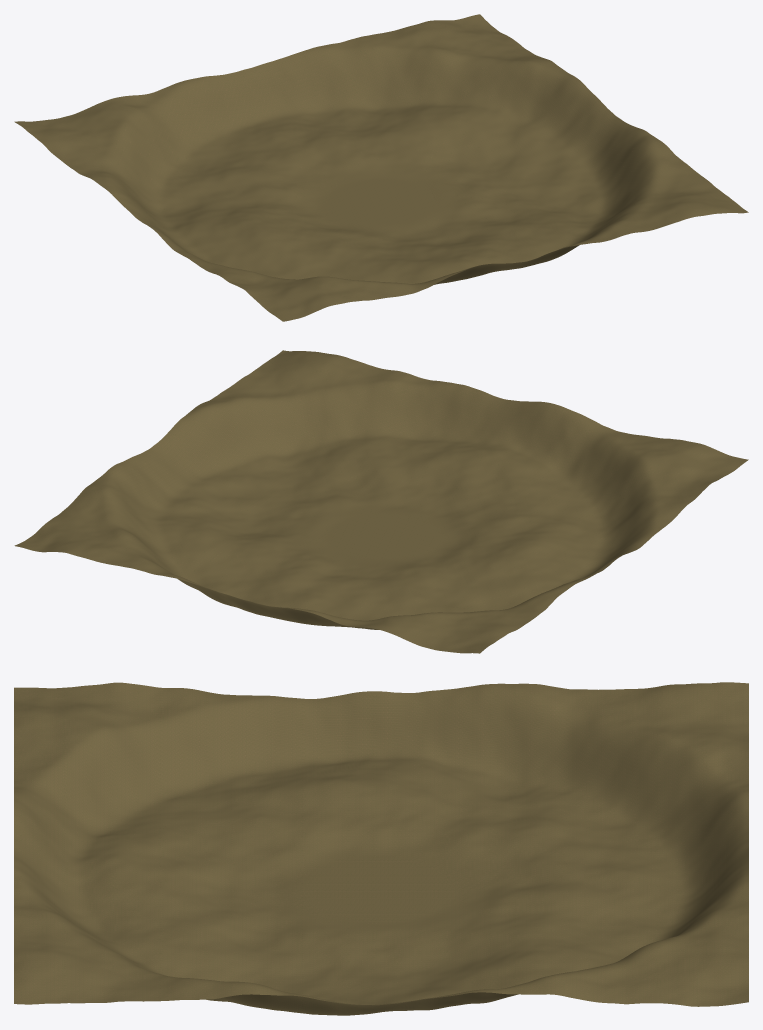
Rendered from terrain.glb.
The picture shows the model from 3 angles, top to bottom: view 1: azimuth 30°, elevation 25°; view 2: azimuth 150°, elevation 25°; view 3: azimuth 270°, elevation 25°; orthographic projection. The views are drawn at different scales.
Parts seen in each view (by area): view 1: terrain; view 2: terrain; view 3: terrain.
Boxes of the visible parts, left/top/right/bottom form: terrain: left=14, top=14, right=748, bottom=321; terrain: left=14, top=350, right=748, bottom=653; terrain: left=14, top=682, right=748, bottom=1015.
Bounding box in the file's own units: 440 × 42.6 × 440.
Materials: 1 (1 with a texture image).
